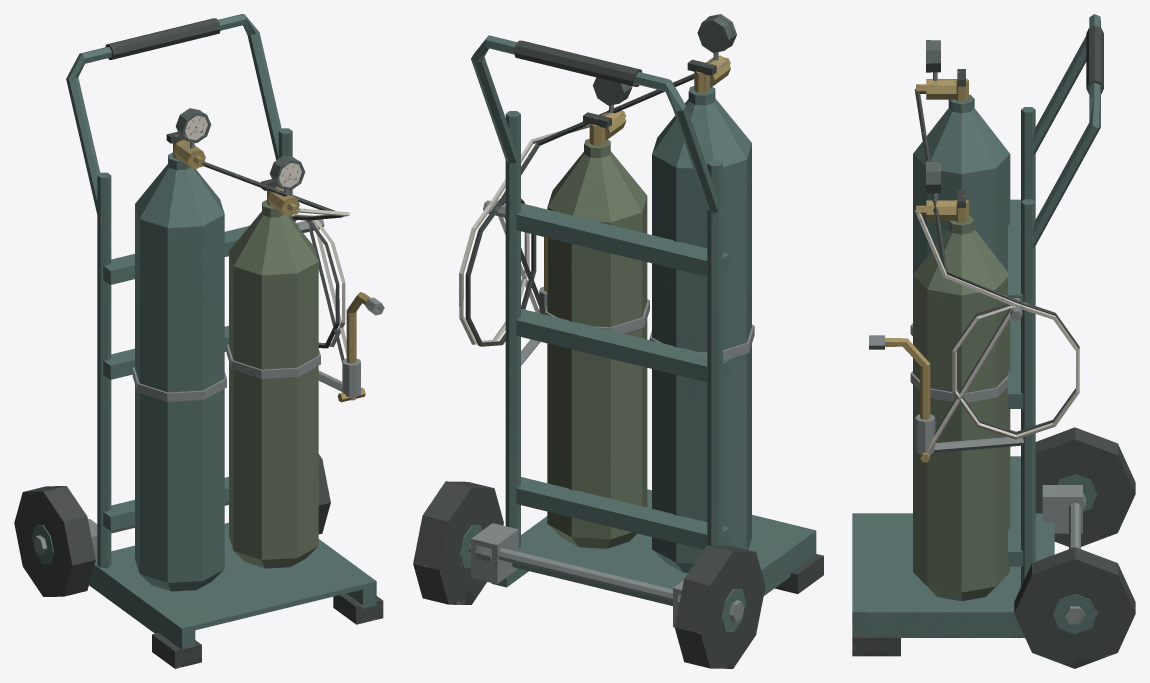
File: industry_welding_cart_cylinders.glb
3 renders of one model, left to right at view 1: azimuth 30°, elevation 25°; view 2: azimuth 150°, elevation 25°; view 3: azimuth 270°, elevation 25°, orthographic. The views are drawn at different scales.
Parts seen in each view (by area): view 1: WeldingCart; view 2: WeldingCart; view 3: WeldingCart.
Part boxes in pixels (left/top/right/bottom): WeldingCart: left=14, top=14, right=384, bottom=668; WeldingCart: left=413, top=14, right=823, bottom=668; WeldingCart: left=852, top=14, right=1135, bottom=668.
Size of what is drawn, in the model's own units: 0.8 by 1.5 by 0.7.
Materials: 1 (1 with a texture image).
